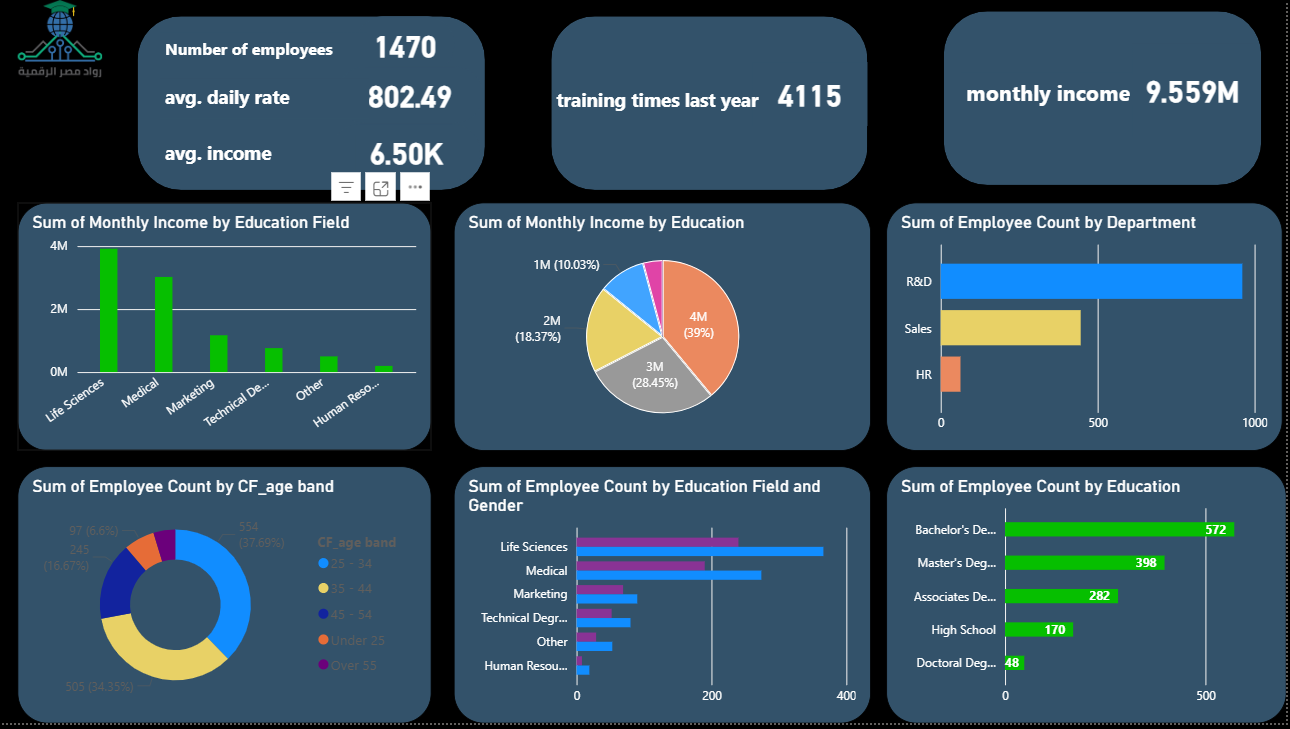

What the dashboard file says about the page in this screenshot:
{"tool":"powerbi","page":{"name":"dashbord3","canvas":[1280,720],"ordinal":2},"visuals":[{"type":"group","id":"g1","title":"Group 1","box":[136.8,16.2,345.8,172.9],"z":0},{"type":"shape","box":[136.8,16.2,345.8,172.9],"z":0,"group":"g1"},{"type":"shape","box":[548.6,16.2,314.7,172.9],"z":0,"group":"g2"},{"type":"shape","box":[939.2,11.2,316,172.9],"z":1000,"group":"g3"},{"type":"card","fields":{"Values":["Sum(HR.Employee Count)"]},"box":[353.7,16.5,99.2,56.5],"z":1000,"group":"g1"},{"type":"clusteredColumnChart","fields":{"Y":["Sum(HR.Monthly Income)"],"Category":["HR.Education Field"]},"box":[17.4,201.5,411.8,247.5],"z":1000},{"type":"group","id":"g2","title":"Group 4","box":[548.6,16.2,314.7,172.9],"z":2000},{"type":"card","fields":{"Values":["Avg(HR.Daily Rate)"]},"box":[334.7,65.8,146.3,56.5],"z":2000,"group":"g1"},{"type":"textbox","box":[956.2,72.2,180.1,63.2],"z":2001,"group":"g4"},{"type":"card","fields":{"Values":["Sum(HR.Training Times Last Year)"]},"box":[748.8,62.8,114.5,63.2],"z":3000,"group":"g2"},{"type":"card","fields":{"Values":["Avg(HR.Monthly Income)"]},"box":[329.5,122.9,148.8,56.5],"z":3000,"group":"g1"},{"type":"pieChart","fields":{"Y":["Sum(HR.Monthly Income)"],"Category":["HR.Education"]},"box":[451.6,201.5,415.5,247.5],"z":3000},{"type":"group","id":"g3","title":"Group 3","box":[939.2,11.2,316,172.9],"z":4000},{"type":"textbox","box":[159.1,32,207.2,34.4],"z":4000,"group":"g1"},{"type":"group","id":"g4","title":"Group 2","box":[956.2,44,290.4,93.1],"z":4000,"group":"g3"},{"type":"textbox","box":[548.6,81.6,248.8,64.3],"z":4000,"group":"g2"},{"type":"textbox","box":[159.4,78.2,207.7,39.8],"z":5000,"group":"g1"},{"type":"clusteredBarChart","fields":{"Y":["Sum(HR.Employee Count)"],"Category":["HR.Department"]},"box":[882,201.5,394.3,247.5],"z":5000},{"type":"textbox","box":[159.1,134,194.5,45.4],"z":6000,"group":"g1"},{"type":"donutChart","fields":{"Category":["HR.CF_age band"],"Y":["Sum(HR.Employee Count)"]},"box":[17.4,464,411.8,256.3],"z":6000},{"type":"clusteredBarChart","fields":{"Category":["HR.Education Field"],"Series":["HR.Gender"],"Y":["Sum(HR.Employee Count)"]},"box":[451.6,464,415.5,256.3],"z":7000},{"type":"card","fields":{"Values":["Sum(HR.Monthly Income)"]},"box":[1127,44,119.6,93.1],"z":7003,"group":"g4"},{"type":"clusteredBarChart","fields":{"Category":["HR.Education"],"Y":["Sum(HR.Employee Count)"]},"box":[882,464,398.1,256.3],"z":8000},{"type":"image","box":[0,0,119.4,77.1],"z":9000}]}

Visuals, with their boxes in screenshot pixels (x1, y1, x2, y2), scaled from the page's 1280x720 canvas onto the 1290x729 screenshot:
"Group 1" group: [138,16,486,191]
shape: [138,16,486,191]
shape: [553,16,870,191]
shape: [947,11,1265,186]
card - Sum(HR.Employee Count): [356,17,456,74]
clusteredColumnChart - Sum(HR.Monthly Income) x HR.Education Field: [18,204,433,455]
"Group 4" group: [553,16,870,191]
card - Avg(HR.Daily Rate): [337,67,485,124]
textbox: [964,73,1145,137]
card - Sum(HR.Training Times Last Year): [755,64,870,128]
card - Avg(HR.Monthly Income): [332,124,482,182]
pieChart - Sum(HR.Monthly Income) x HR.Education: [455,204,874,455]
"Group 3" group: [947,11,1265,186]
textbox: [160,32,369,67]
"Group 2" group: [964,45,1256,139]
textbox: [553,83,804,148]
textbox: [161,79,370,119]
clusteredBarChart - Sum(HR.Employee Count) x HR.Department: [889,204,1286,455]
textbox: [160,136,356,182]
donutChart - HR.CF_age band x Sum(HR.Employee Count): [18,470,433,728]
clusteredBarChart - HR.Education Field x HR.Gender: [455,470,874,728]
card - Sum(HR.Monthly Income): [1136,45,1256,139]
clusteredBarChart - HR.Education x Sum(HR.Employee Count): [889,470,1289,728]
image: [0,0,120,78]
